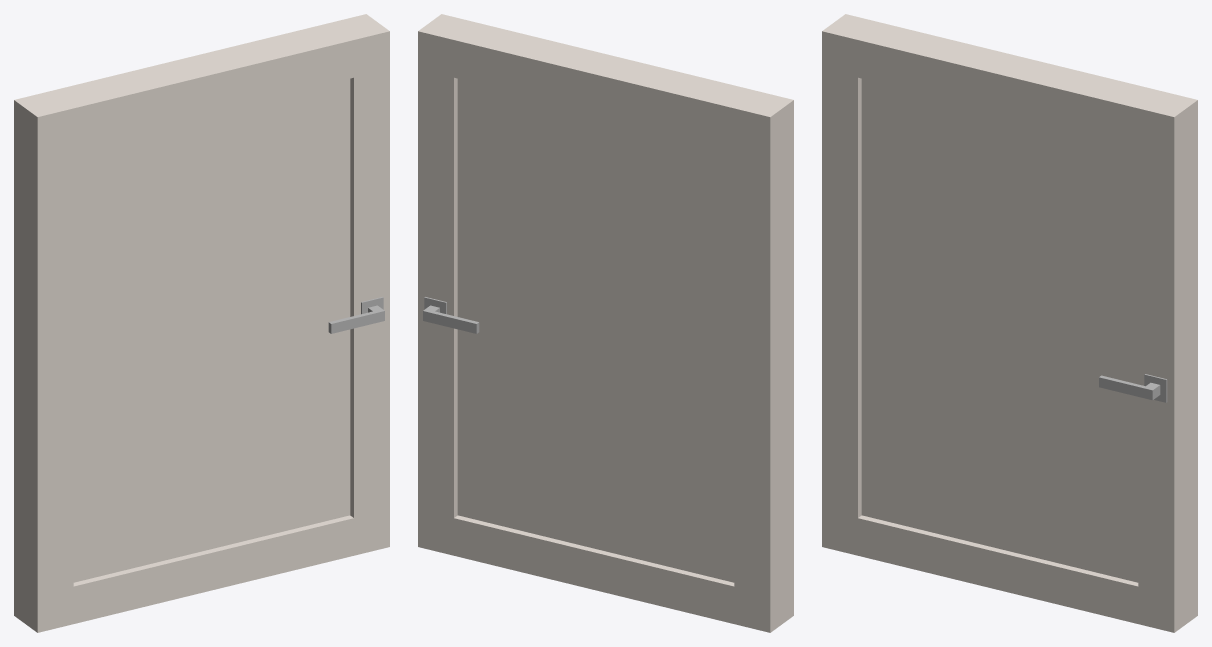
Rendered from 3D_Prop_Door.fbx.
3 renders of one model, left to right at view 1: azimuth 30°, elevation 25°; view 2: azimuth 150°, elevation 25°; view 3: azimuth 330°, elevation 25°, orthographic.
Parts seen in each view (by area): view 1: Door; view 2: Door; view 3: Door.
Part boxes in pixels (x1,y1,x2,y2): Door: [14, 14, 389, 632]; Door: [418, 14, 793, 632]; Door: [822, 14, 1197, 632].
Size of the model in its own units: 401 by 561 by 79.52.
Materials: 1 (1 with a texture image).
